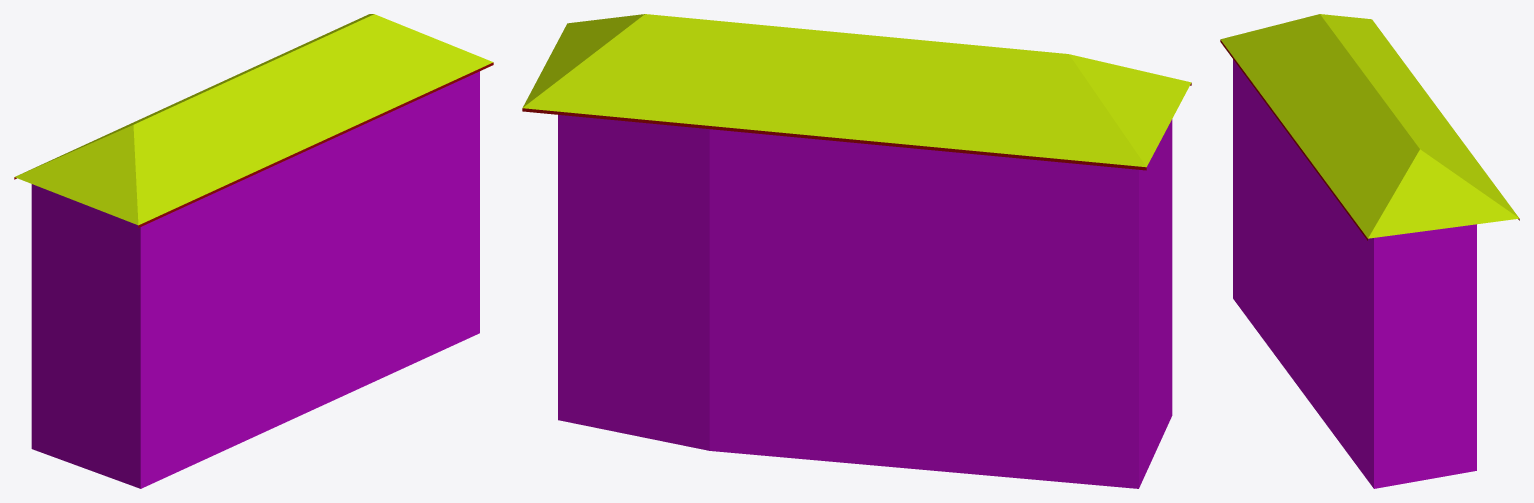
File: vas_3.glb
3 views of the same model, side by side, from view 1: azimuth 30°, elevation 25°; view 2: azimuth 150°, elevation 25°; view 3: azimuth 270°, elevation 25° (orthographic). The views are drawn at different scales.
Parts seen in each view (by area): view 1: vas_3; view 2: vas_3; view 3: vas_3.
Part boxes in pixels (x1,y1,x2,y2): vas_3: (14,14,493,488); vas_3: (522,14,1191,488); vas_3: (1220,14,1519,488).
Size of the model in its own units: 22.49 by 14.45 by 12.97.
